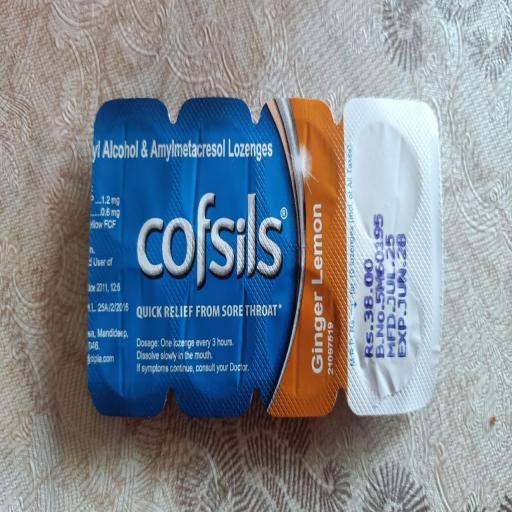cofsils: (86, 101, 451, 426)
